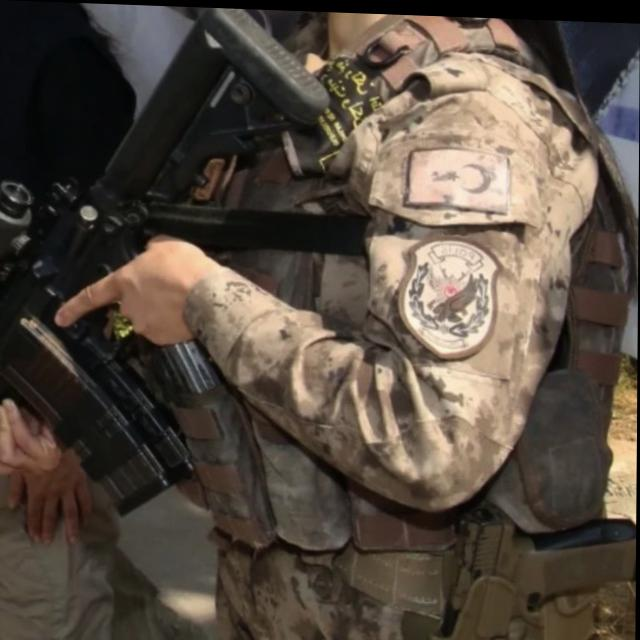poh_personel: (54, 2, 640, 640)
